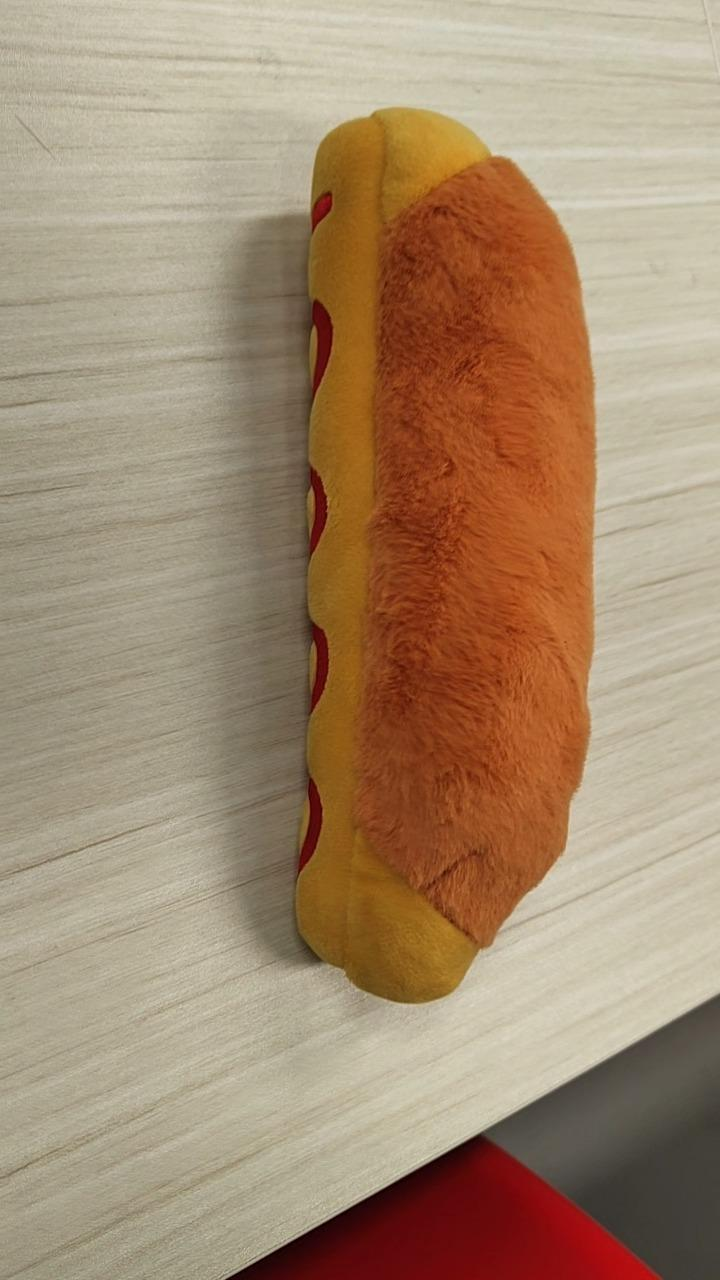hotdog: (292, 105, 598, 1004)
